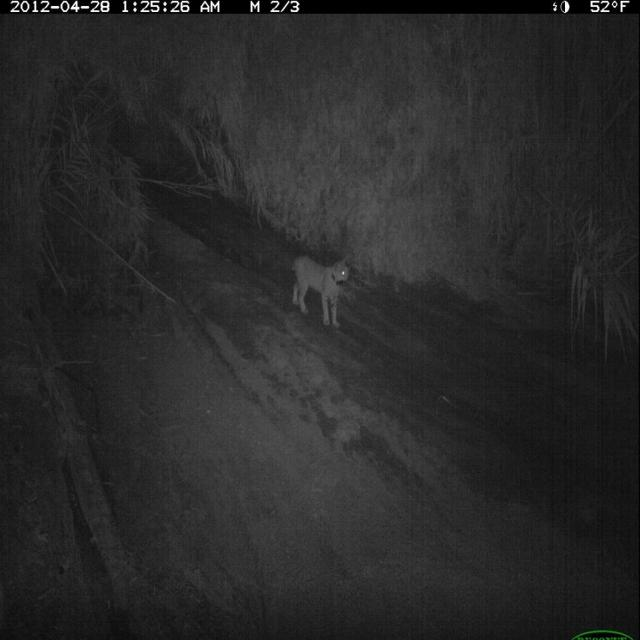bobcat: (290, 250, 353, 329)
